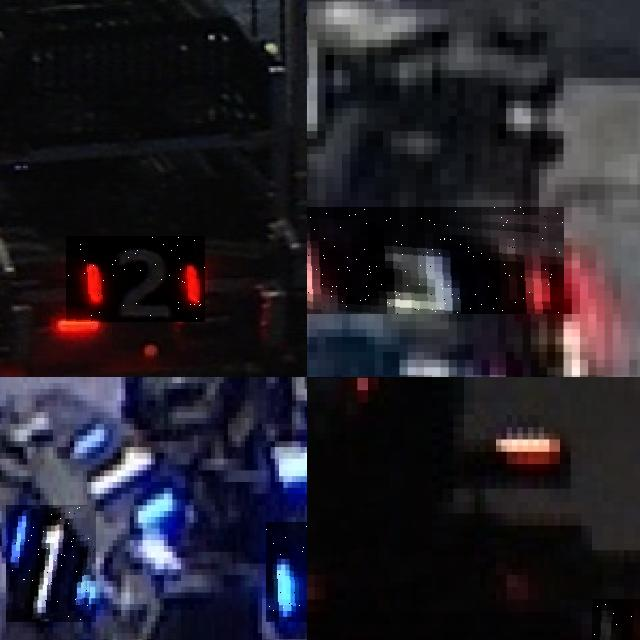B1: (70, 424, 177, 528), (6, 505, 96, 622), (266, 522, 307, 621)
R1: (592, 599, 640, 640)
R2: (66, 236, 206, 322)
R3: (307, 207, 563, 313)
